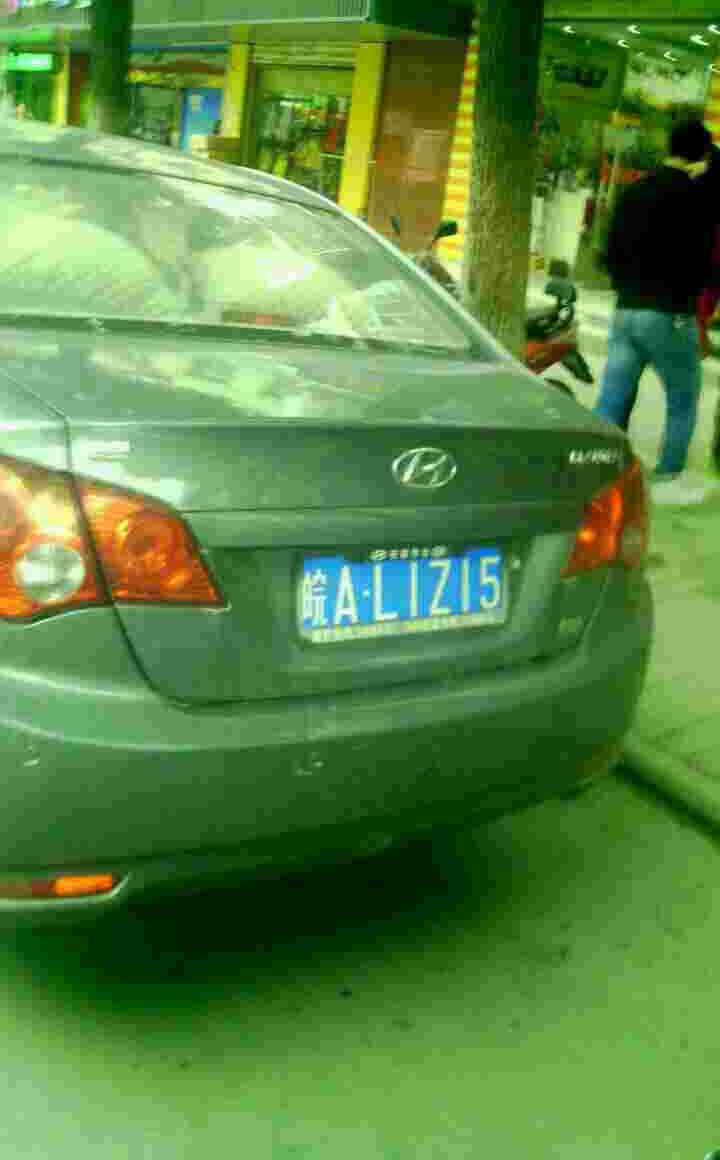license_plate: (304, 549, 506, 626)
